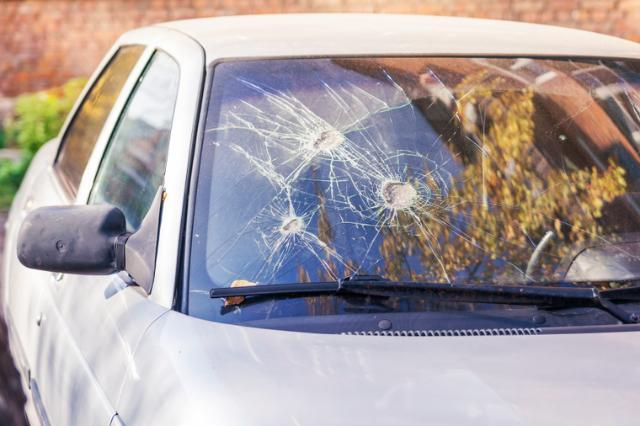Windshield: (206, 55, 640, 312)
